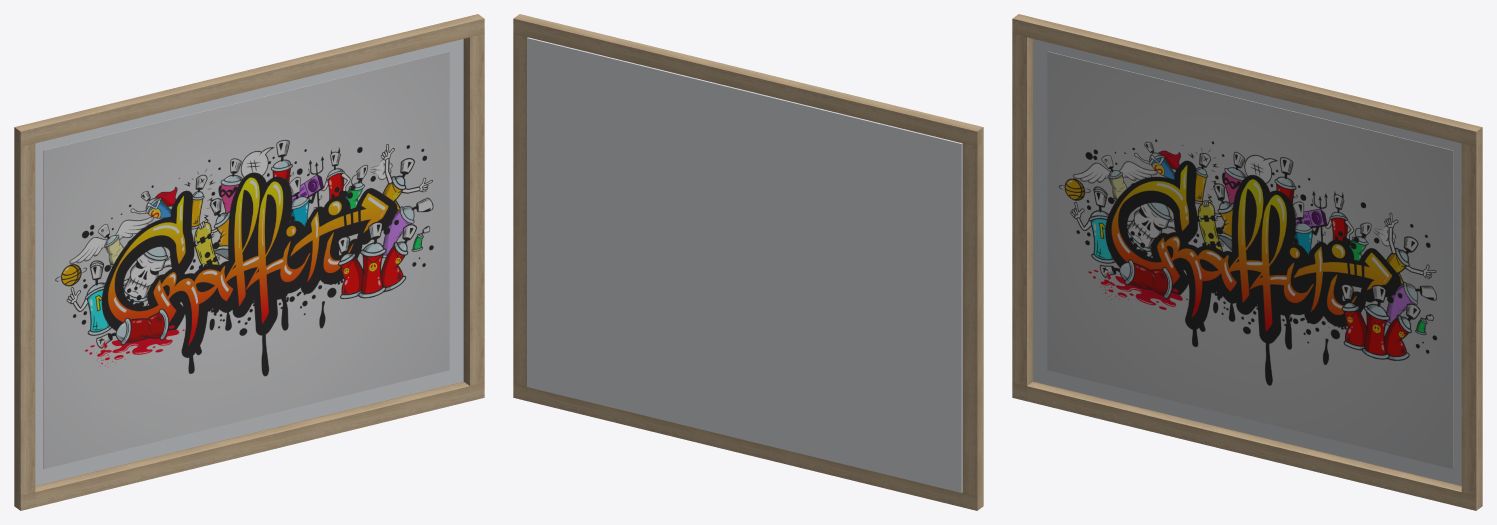
Rendered from template.gltf.
The picture shows the model from 3 angles, left to right: view 1: azimuth 30°, elevation 25°; view 2: azimuth 150°, elevation 25°; view 3: azimuth 330°, elevation 25°; orthographic projection.
Visible parts, largest first — view 1: photo, Backing, B, F, H, D; view 2: Backing, B, H, F, D; view 3: photo, Backing, B, F, D, H.
Boxes of the visible parts, x1=… form: photo: x1=43, y1=51, x2=449, y2=468; Backing: x1=35, y1=39, x2=463, y2=485; B: x1=29, y1=17, x2=469, y2=143; F: x1=35, y1=381, x2=469, y2=507; H: x1=14, y1=142, x2=35, y2=495; D: x1=463, y1=34, x2=484, y2=385; Backing: x1=527, y1=37, x2=962, y2=492; B: x1=528, y1=17, x2=968, y2=143; H: x1=962, y1=142, x2=983, y2=495; F: x1=528, y1=387, x2=962, y2=507; D: x1=513, y1=34, x2=527, y2=385; photo: x1=1047, y1=51, x2=1453, y2=468; Backing: x1=1033, y1=39, x2=1461, y2=485; B: x1=1027, y1=17, x2=1467, y2=143; F: x1=1027, y1=381, x2=1461, y2=507; D: x1=1461, y1=142, x2=1482, y2=495; H: x1=1012, y1=34, x2=1033, y2=385.
Size of the model in its own units: 1.28 by 1 by 0.035.
Materials: 4 (3 with a texture image).
